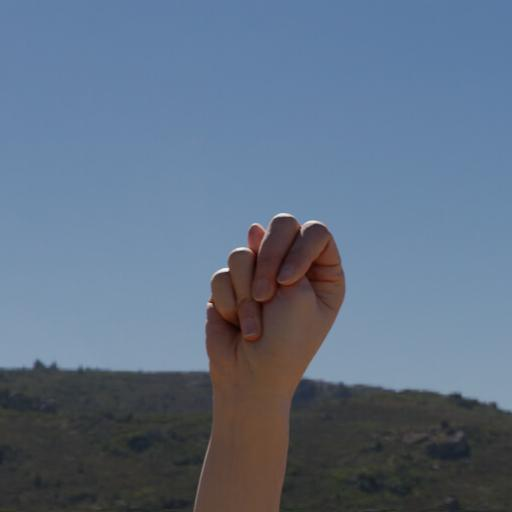N: (198, 211, 350, 401)
